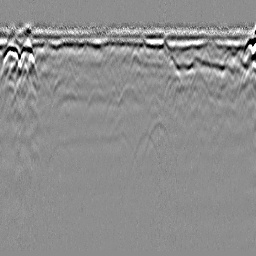cavity: (117, 82, 140, 105)
